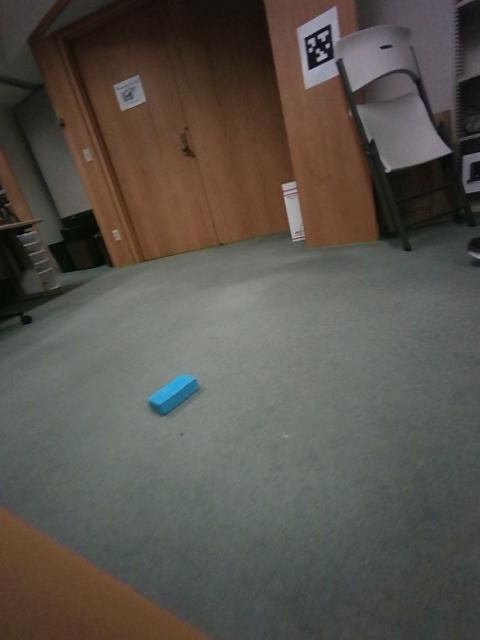block: (425, 306, 475, 378)
